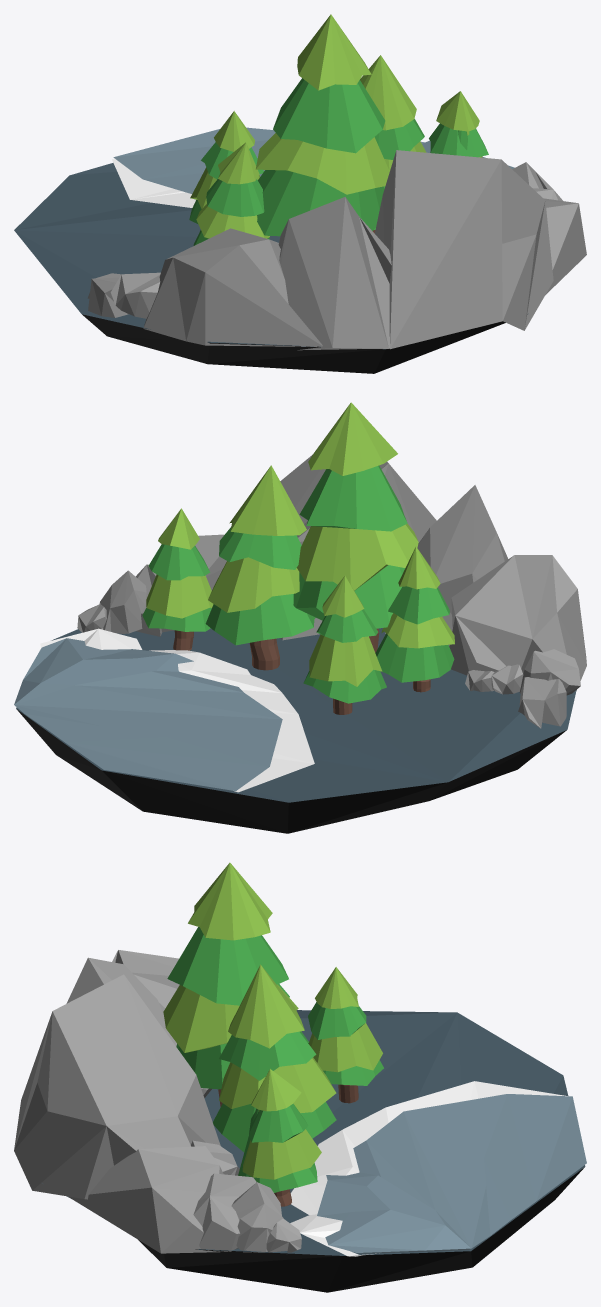
File: Winter Forest.glb
The picture shows the model from 3 angles, top to bottom: view 1: azimuth 30°, elevation 25°; view 2: azimuth 150°, elevation 25°; view 3: azimuth 270°, elevation 25°; orthographic projection. The views are drawn at different scales.
Visible parts, largest first — view 1: group1917002357, group1208349824, group304770155, group625173982, group94021860, group1078763601, group620825880, group575068400, group878696434, group114843438, group802575612, group122776761 (+4 smaller); view 2: group1208349824, group620825880, group304770155, group575068400, group625173982, group1078763601, group114843438, group122776761, group94021860, group1917002357, group784906311, group23859746 (+9 smaller); view 3: group620825880, group1917002357, group1208349824, group304770155, group575068400, group878696434, group122776761, group114843438, group764036442, group784906311, group23859746, group94021860 (+6 smaller).
Part boxes in pixels (bbox=[...]): group1917002357: bbox=[374, 150, 553, 349]; group1208349824: bbox=[14, 163, 528, 373]; group304770155: bbox=[255, 14, 389, 236]; group625173982: bbox=[143, 228, 322, 346]; group94021860: bbox=[278, 197, 391, 350]; group1078763601: bbox=[193, 142, 269, 245]; group620825880: bbox=[113, 127, 514, 193]; group575068400: bbox=[360, 55, 426, 233]; group878696434: bbox=[543, 198, 586, 295]; group114843438: bbox=[189, 111, 263, 224]; group802575612: bbox=[110, 272, 160, 318]; group122776761: bbox=[112, 159, 195, 207]; group1208349824: bbox=[16, 628, 576, 833]; group620825880: bbox=[14, 638, 282, 790]; group304770155: bbox=[293, 402, 418, 652]; group575068400: bbox=[205, 465, 315, 670]; group625173982: bbox=[449, 555, 586, 691]; group1078763601: bbox=[375, 546, 454, 692]; group114843438: bbox=[303, 576, 386, 714]; group122776761: bbox=[39, 628, 314, 792]; group94021860: bbox=[385, 485, 507, 646]; group1917002357: bbox=[280, 454, 436, 640]; group784906311: bbox=[146, 574, 213, 618]; group23859746: bbox=[99, 570, 146, 633]; group620825880: bbox=[317, 1094, 586, 1253]; group1917002357: bbox=[14, 974, 220, 1199]; group1208349824: bbox=[42, 1010, 585, 1292]; group304770155: bbox=[163, 862, 309, 1106]; group575068400: bbox=[213, 964, 336, 1152]; group878696434: bbox=[68, 1146, 223, 1253]; group122776761: bbox=[290, 1081, 567, 1256]; group114843438: bbox=[308, 967, 383, 1103]; group764036442: bbox=[193, 1173, 256, 1251]; group784906311: bbox=[242, 1110, 321, 1179]; group23859746: bbox=[231, 1182, 283, 1252]; group94021860: bbox=[66, 957, 211, 1097].
Bounding box in the file's own units: 0.2774 × 0.1693 × 0.2758.
